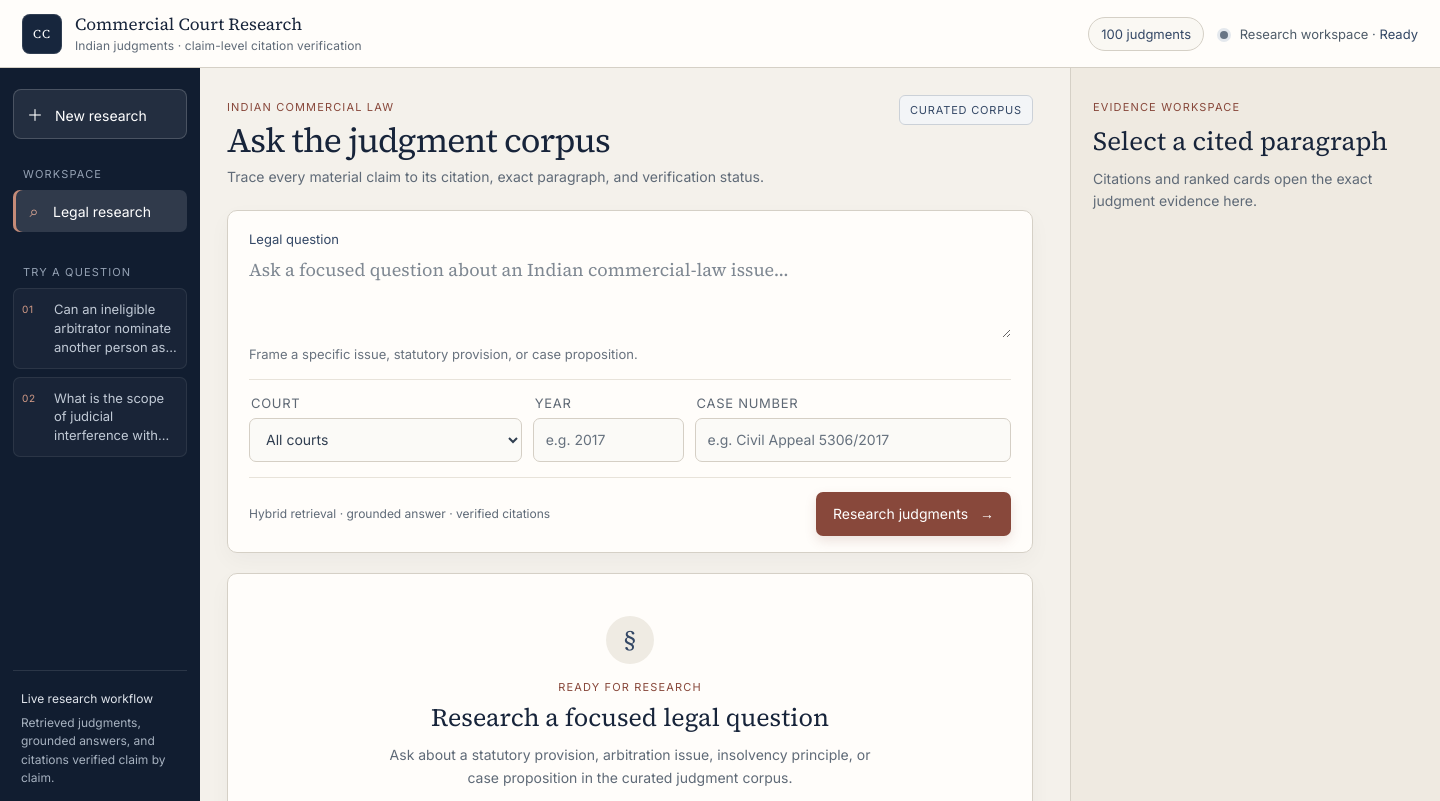
it: ResearchWorkspace live API boundary › keeps answer and evidence visible when verification is unavailable
In the text box labelled "Legal question": (630, 297) x1=249 y1=256 x2=1011 y2=338, type "Can an ineligible arbitrator nominate another person as arbitrator?"
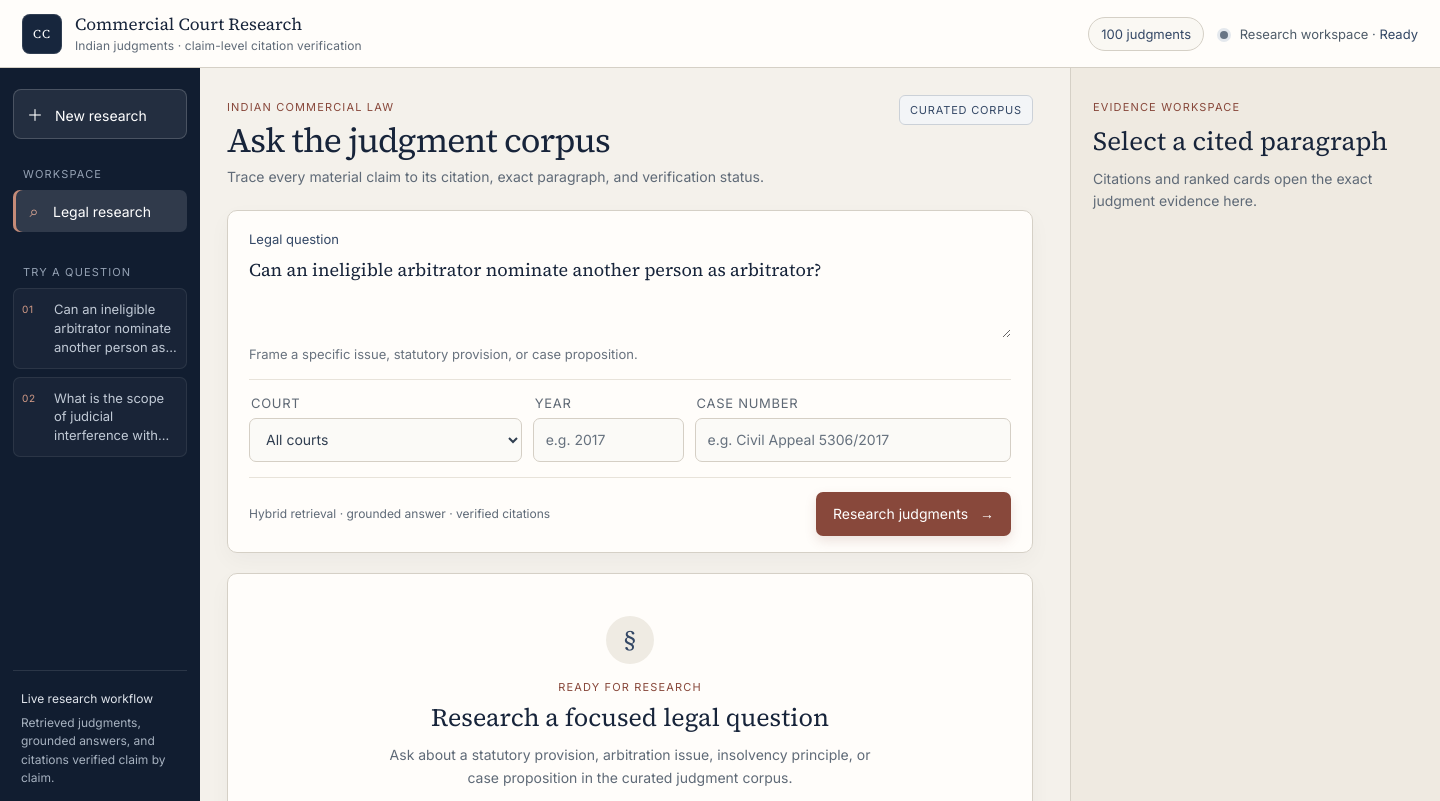
Click the button "Research judgments →": (913, 514) x1=816 y1=492 x2=1011 y2=536
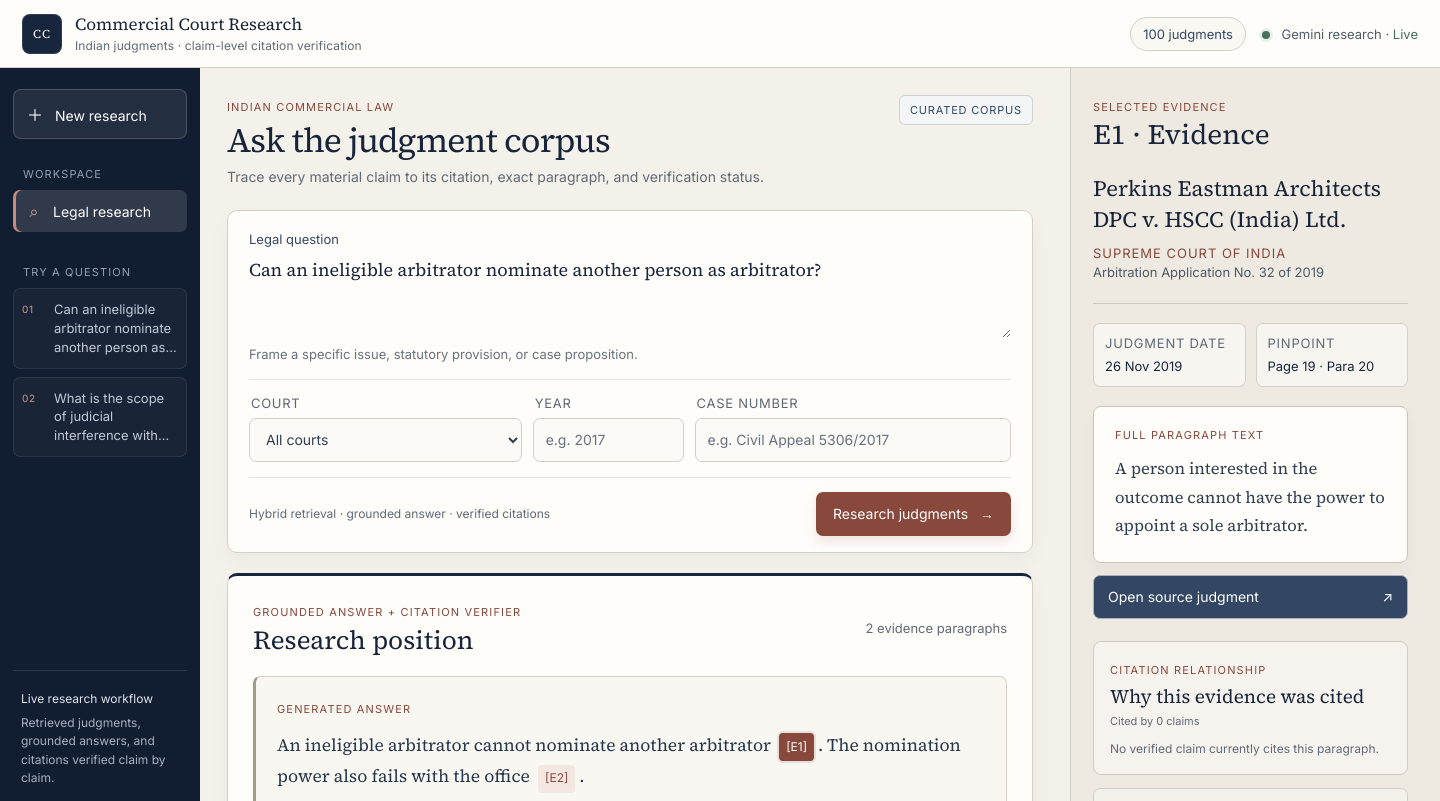
Now the element named "Selected judgment evidence" shows "E1", box x1=1093 y1=115 x2=1126 y2=153
